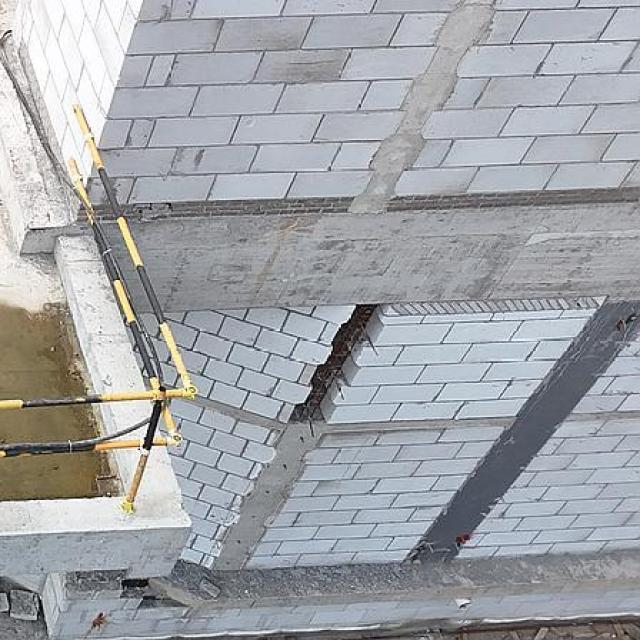edge_guardrail: (0, 102, 197, 511)
